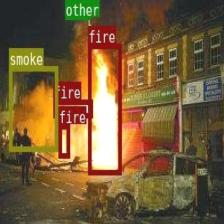fire: (88, 43, 121, 174), (53, 99, 92, 117), (58, 124, 69, 157)
smoke: (8, 64, 57, 150)
